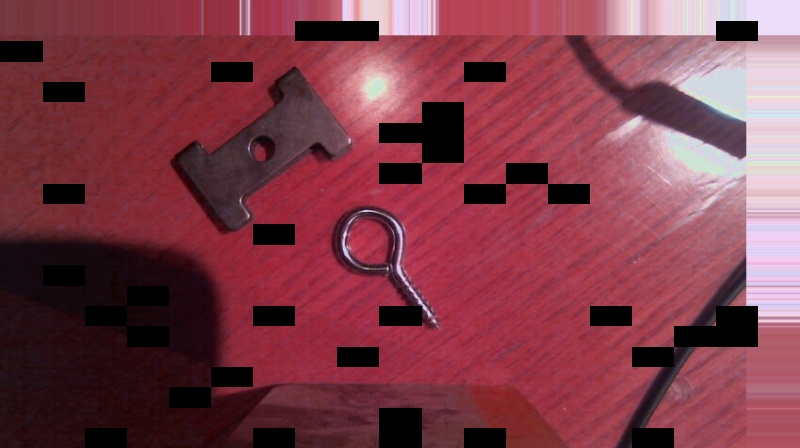O001: (331, 205, 445, 335)
O002: (166, 64, 358, 232)
